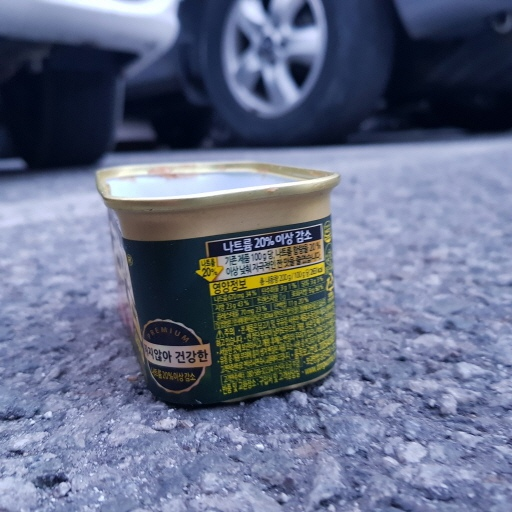Metal_2: (92, 160, 347, 410)
